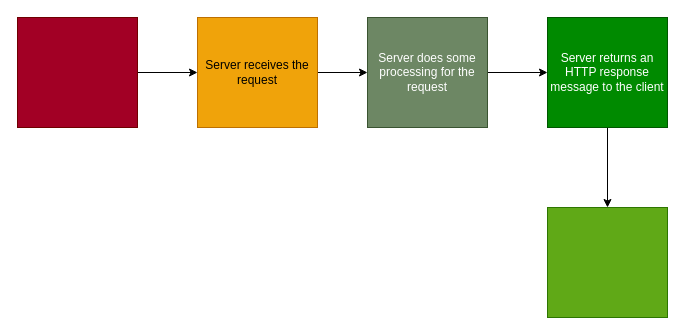
Image size: 685x335. Some labels were removed from this diagram. The shapes that lost their labels are listed below. From the top down, each one's centre as x and y in pixels, then its label:
the point at 77,72: Client send an HTTP request message to the server
the point at 607,262: Client receives the HTTP response message
